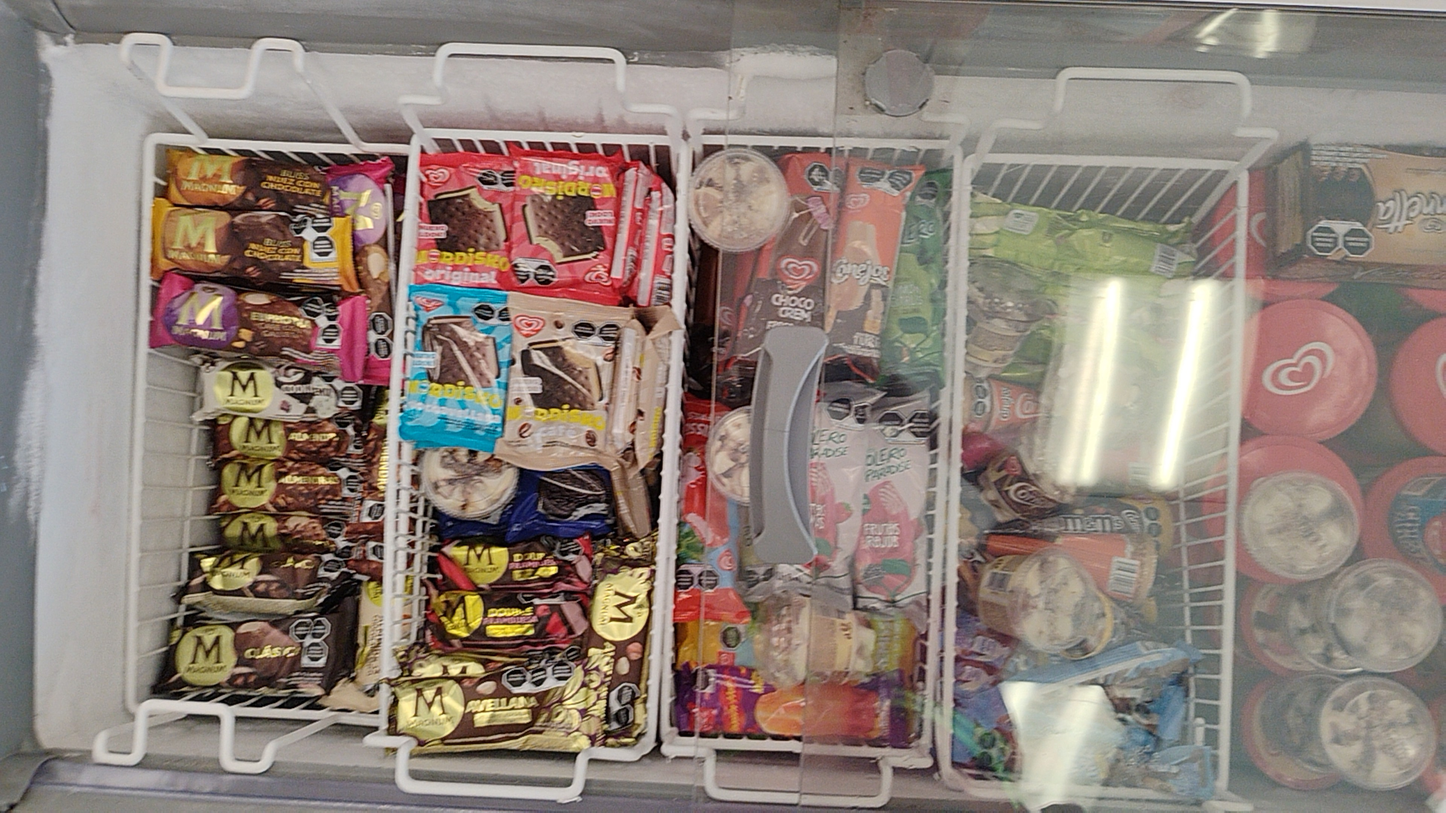rejilla: (383, 147, 418, 676), (1222, 178, 1246, 787), (131, 142, 153, 709), (948, 167, 969, 755), (649, 336, 676, 737), (925, 390, 949, 741), (663, 339, 678, 728), (679, 739, 884, 755), (977, 783, 1174, 798), (988, 157, 1234, 168), (429, 132, 667, 143), (948, 160, 961, 336), (704, 138, 946, 147), (674, 152, 686, 311), (208, 142, 356, 151), (679, 228, 687, 316), (235, 711, 330, 718), (382, 688, 387, 725)
